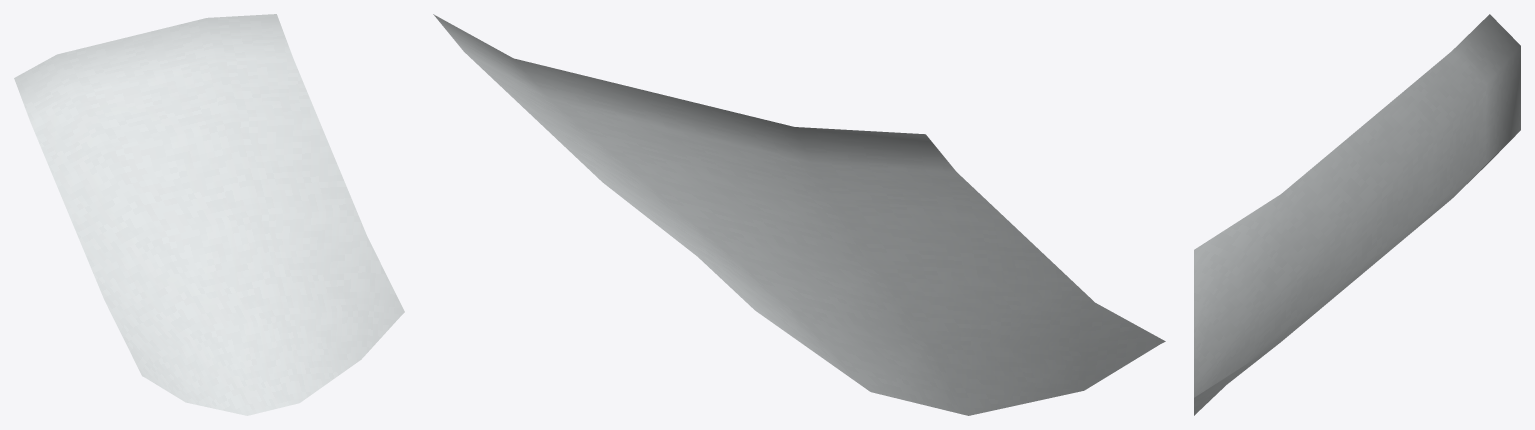
The model's file is spheroid_small_0_1_0.obj.
3 views of the same model, side by side, from view 1: azimuth 30°, elevation 25°; view 2: azimuth 150°, elevation 25°; view 3: azimuth 270°, elevation 25° (orthographic). The views are drawn at different scales.
Parts seen in each view (by area): view 1: spheroid_small_0_1_0; view 2: spheroid_small_0_1_0; view 3: spheroid_small_0_1_0.
Part boxes in pixels (x1,y1,x2,y2): spheroid_small_0_1_0: (14,14,404,415); spheroid_small_0_1_0: (433,14,1165,415); spheroid_small_0_1_0: (1194,14,1520,415).
Size of the model in its own units: 3 by 2.94 by 2.8.
